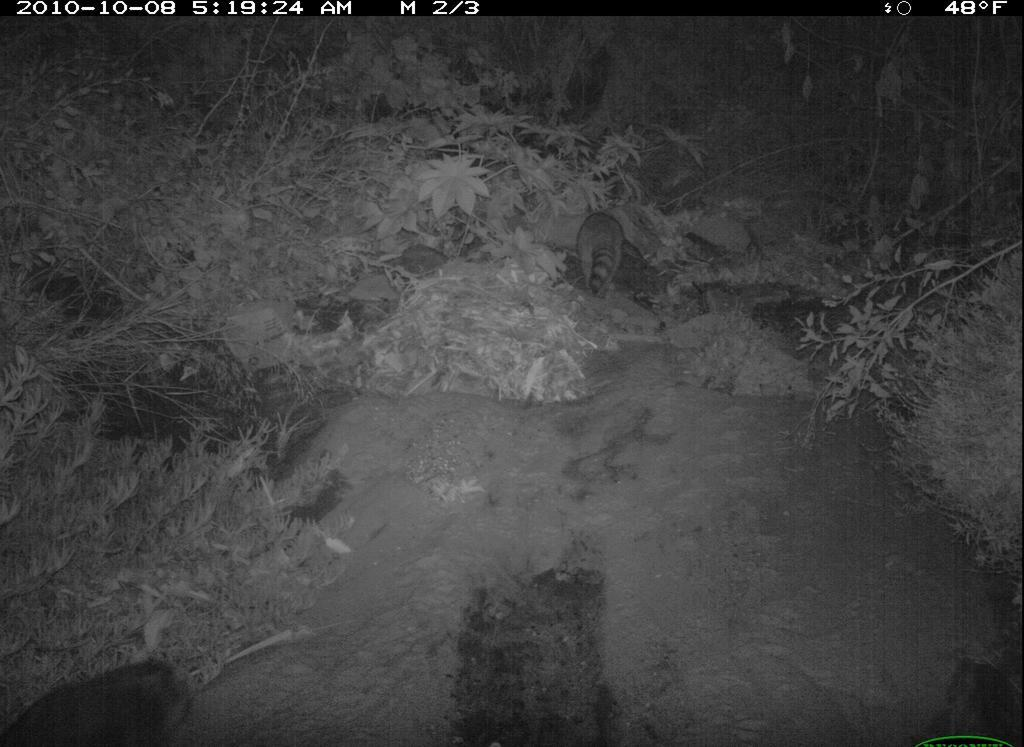raccoon: (548, 199, 651, 315)
